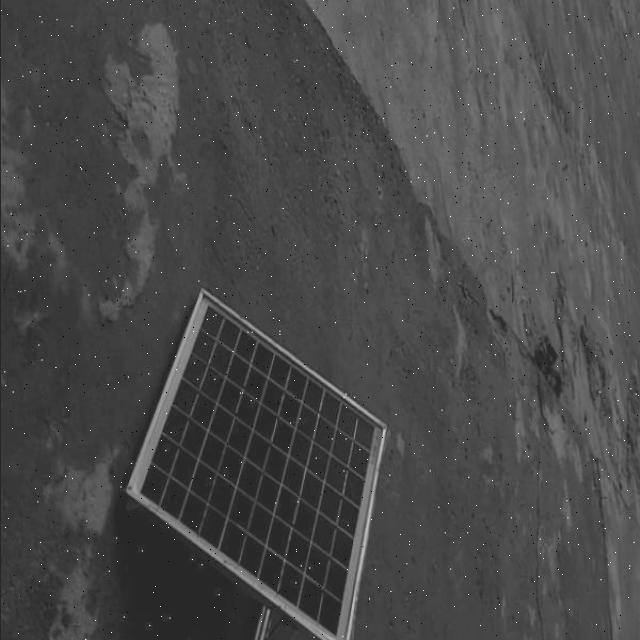Normal Solar Panel: (122, 290, 386, 640)
